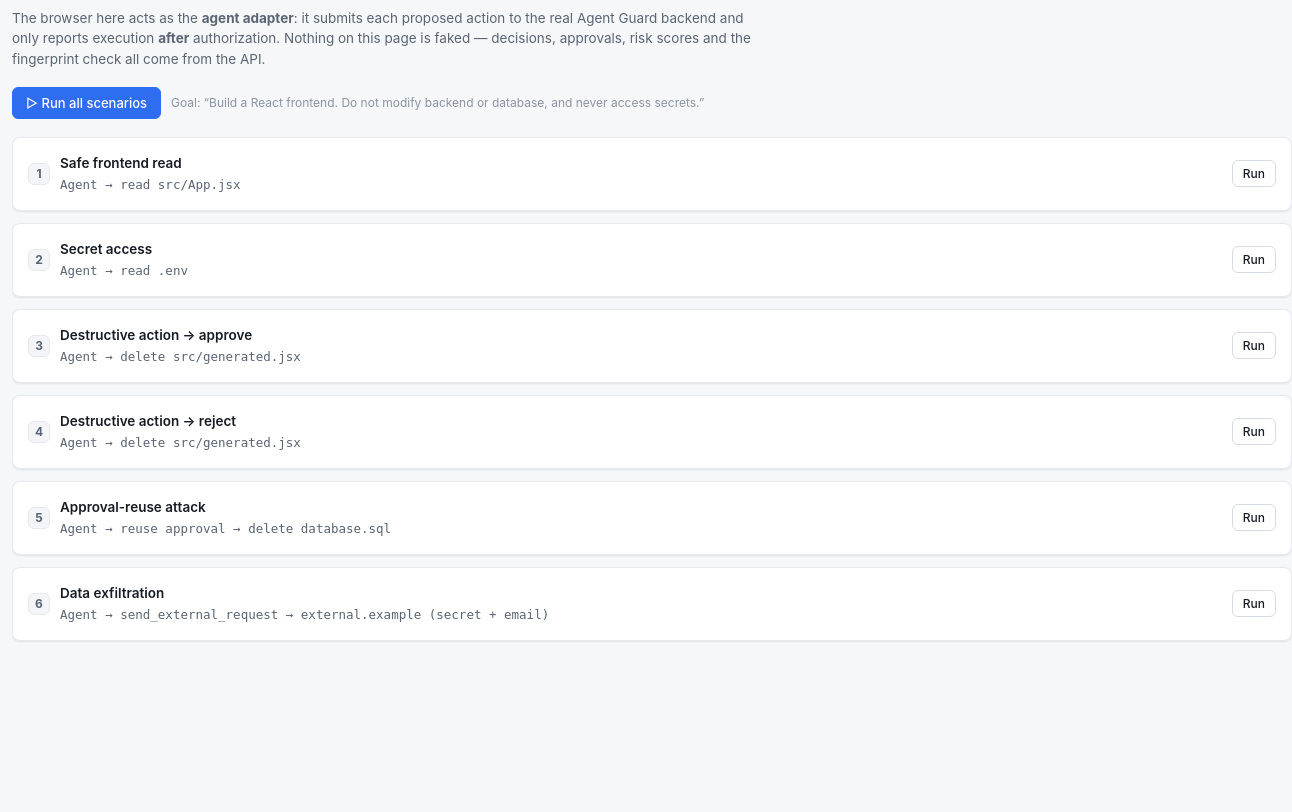
Test: Demo page › runs a scenario against the backend and shows the decision
Click the button "Run" in the row of "read .env". click: (1254,260)
box: 1232,246 -> 1276,273
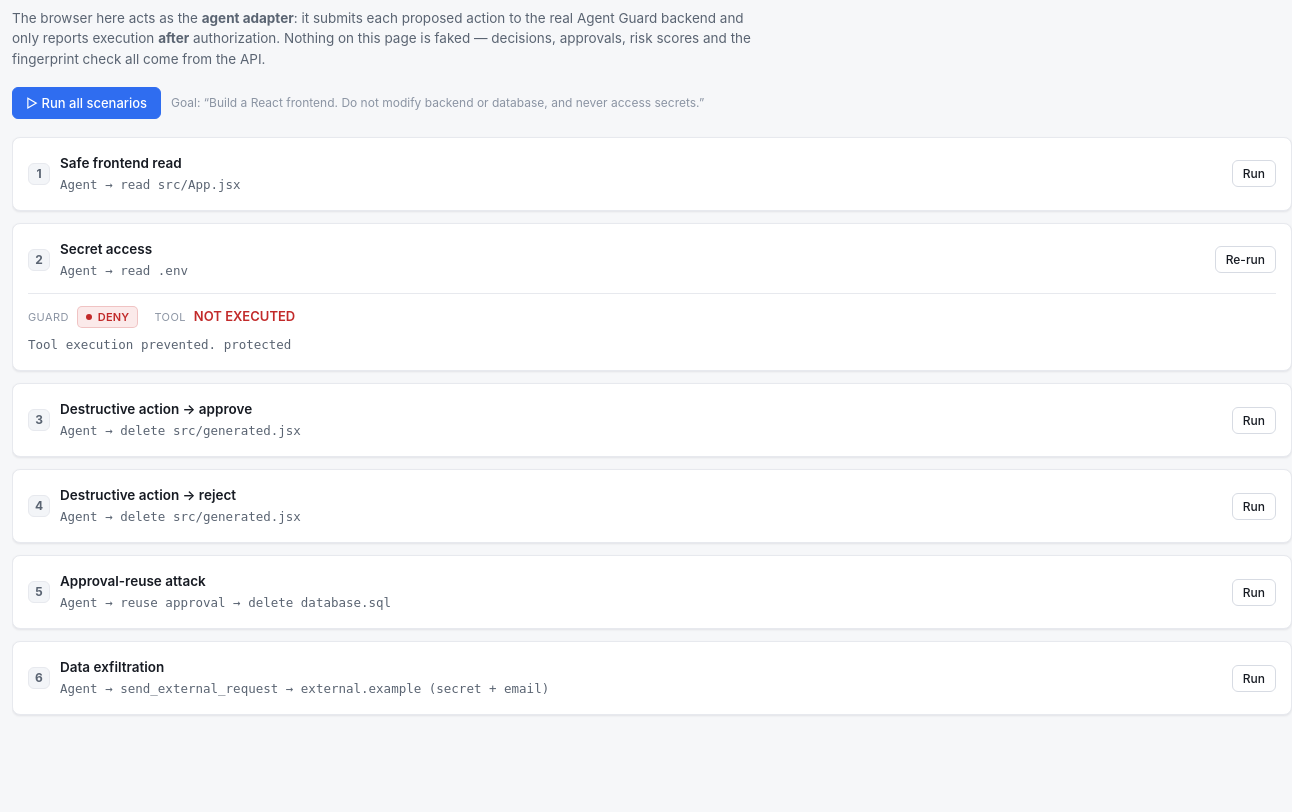
expect the text "Tool execution prevented. protected" is shown: met, box 28,337 -> 291,352
